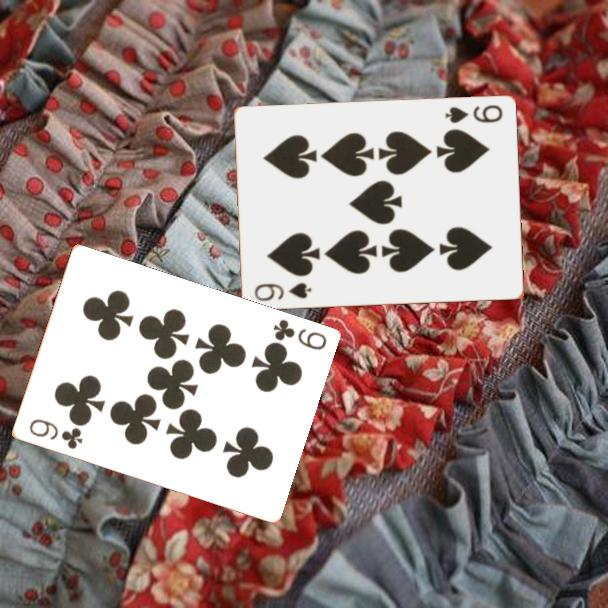c09: (25, 415, 85, 452), (269, 316, 329, 353)
s09: (251, 279, 314, 304), (442, 102, 505, 126)
